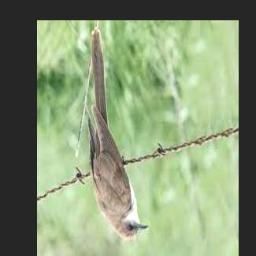Cuckoo: (87, 28, 149, 240)
